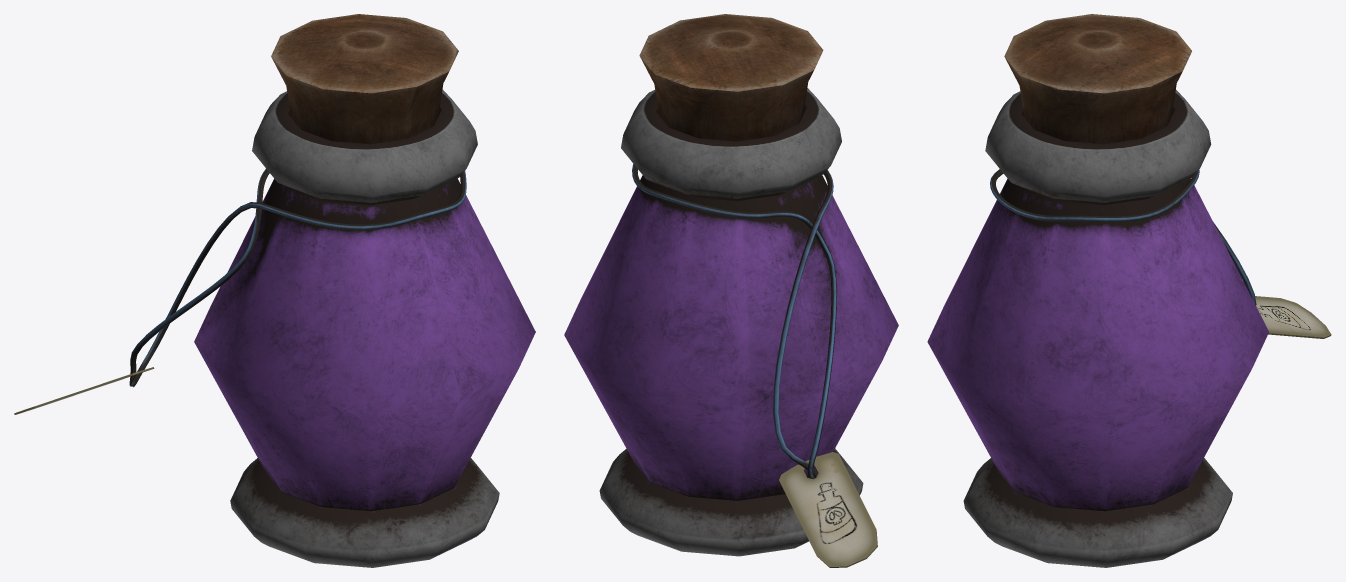
The model's file is flask.fbx.
3 views of the same model, side by side, from view 1: azimuth 30°, elevation 25°; view 2: azimuth 150°, elevation 25°; view 3: azimuth 270°, elevation 25° (orthographic). The views are drawn at different scales.
Visible parts, largest first — view 1: flask, rope; view 2: flask, label, rope; view 3: flask, label, rope.
Boxes of the visible parts, x1=… form: flask: x1=194, y1=14, x2=535, y2=567; rope: x1=129, y1=168, x2=466, y2=387; flask: x1=564, y1=14, x2=898, y2=556; label: x1=779, y1=452, x2=877, y2=567; rope: x1=632, y1=164, x2=836, y2=478; flask: x1=927, y1=14, x2=1268, y2=567; label: x1=1255, y1=296, x2=1331, y2=338; rope: x1=990, y1=169, x2=1256, y2=305.
Size of the model in its own units: 29.48 by 34.02 by 26.04.
